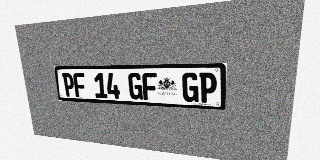1: (93, 73, 107, 98)
4: (106, 73, 120, 99)
F: (142, 73, 157, 100), (73, 73, 87, 97)
G: (182, 73, 199, 102), (128, 73, 143, 100)
P: (199, 72, 217, 103), (62, 73, 75, 97)
